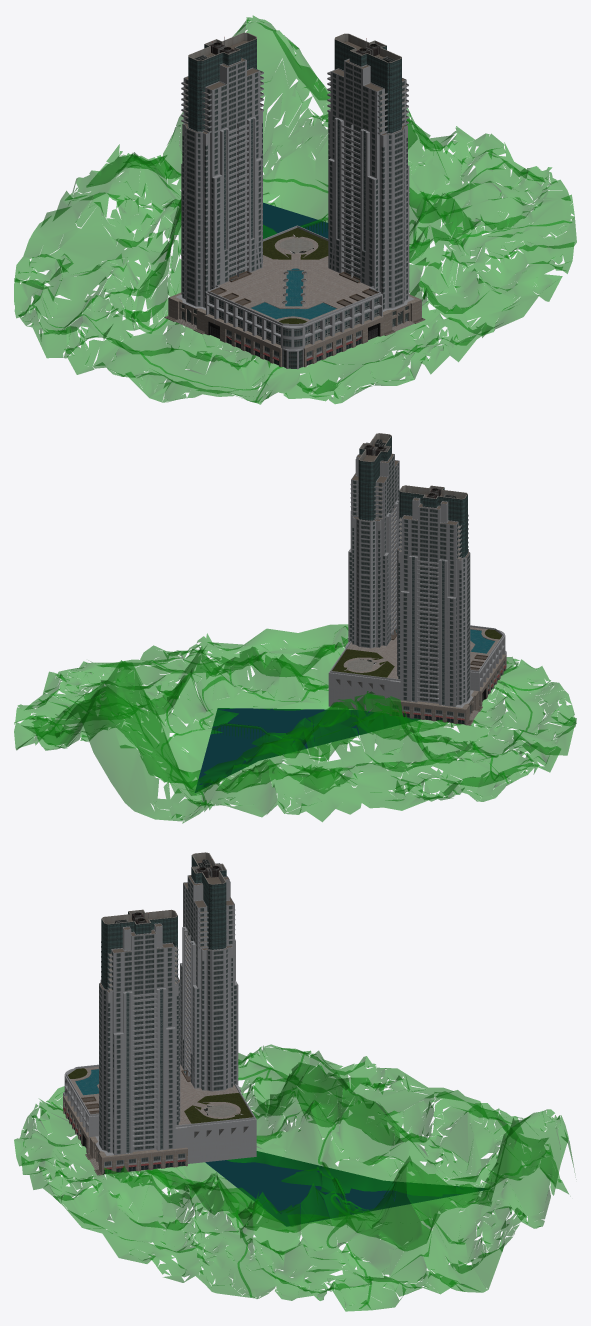
File: towerrrr.glb
3 views of the same model, one above another, from view 1: azimuth 30°, elevation 25°; view 2: azimuth 150°, elevation 25°; view 3: azimuth 270°, elevation 25° (orthographic). The views are drawn at different scales.
Visible parts, largest first — view 1: Plane.011, hivizcayne, BezierCurve.001, Water; view 2: Plane.011, hivizcayne, Water, BezierCurve.001; view 3: Plane.011, hivizcayne, Water, BezierCurve.001.
Boxes of the visible parts, bbox=[...] form: Plane.011: bbox=[14, 15, 576, 404]; hivizcayne: bbox=[164, 32, 425, 369]; BezierCurve.001: bbox=[20, 155, 572, 401]; Water: bbox=[263, 202, 328, 238]; Plane.011: bbox=[14, 624, 576, 823]; hivizcayne: bbox=[328, 433, 506, 725]; Water: bbox=[195, 708, 420, 792]; BezierCurve.001: bbox=[38, 660, 547, 807]; Plane.011: bbox=[14, 1044, 574, 1311]; hivizcayne: bbox=[63, 852, 256, 1175]; Water: bbox=[205, 1151, 487, 1226]; BezierCurve.001: bbox=[51, 1051, 550, 1308].
Size of the model in its own units: 513 by 302 by 488.
Materials: 3 (1 with a texture image).
